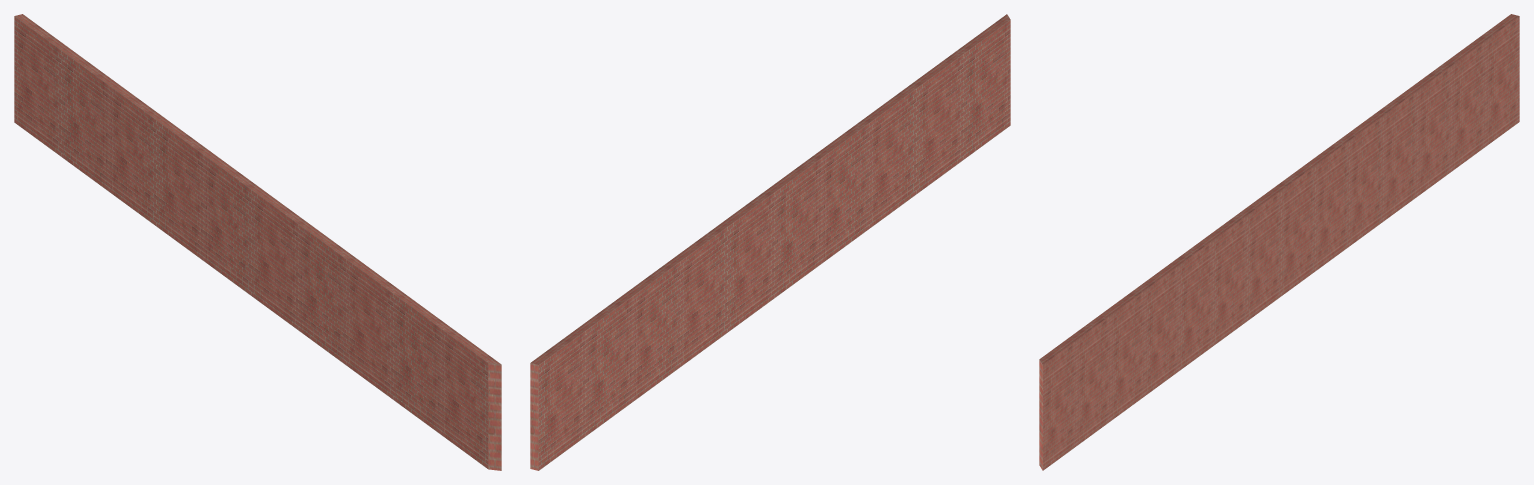
Rendered from bushes12.glb.
3 views of the same model, side by side, from view 1: azimuth 30°, elevation 25°; view 2: azimuth 150°, elevation 25°; view 3: azimuth 330°, elevation 25° (orthographic).
Parts seen in each view (by area): view 1: bushes12; view 2: bushes12; view 3: bushes12.
Part boxes in pixels (x1=…): bushes12: x1=14, y1=14, x2=501, y2=470; bushes12: x1=530, y1=14, x2=1010, y2=470; bushes12: x1=1039, y1=14, x2=1519, y2=470.
Size of the model in its own units: 64.83 by 783 by 6380.
Materials: 1 (1 with a texture image).
